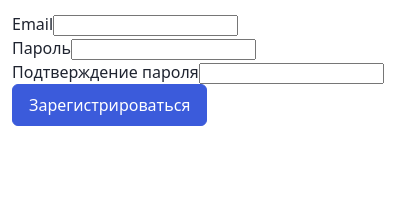
Test case: SignupForm › показывает ошибку, если пароли не совпадают
The image size is (401, 199).
In the field labelled "Email": x=146, y=26 [53,15,238,36], type "a@b.co"
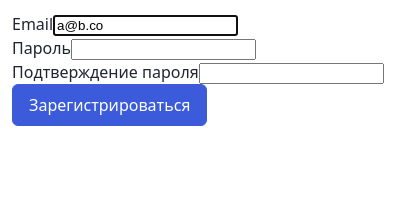
In the password field labelled "Пароль": x=164, y=50 [71,39,256,60], type "12345678"
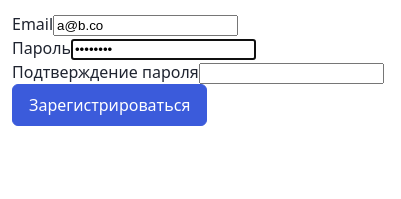
In the password field labelled "Подтверждение пароля": x=291, y=74 [199,63,384,84], type "87654321"
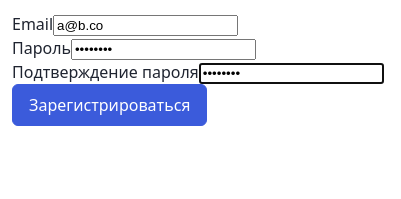
Click the button "Зарегистрироваться": x=110, y=105 [12,84,207,126]
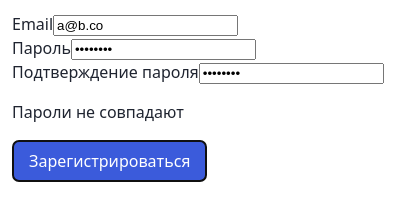
Expected: the text "Пароли не совпадают" is shown, [12,101,184,123]
